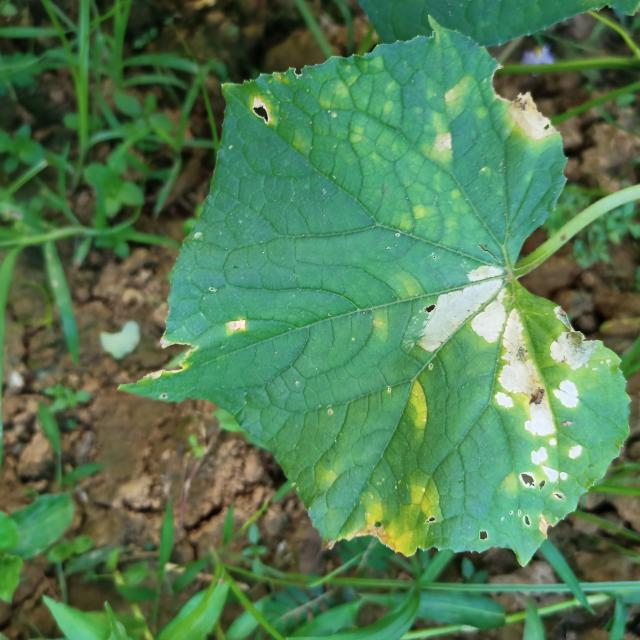disease_cucumber: (415, 257, 593, 547), (352, 463, 442, 561), (408, 68, 472, 170), (398, 374, 440, 438)
